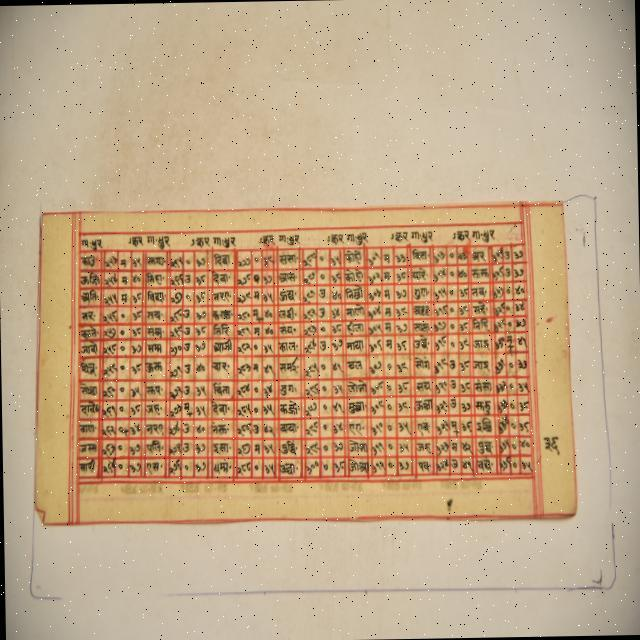text_paragraph: (34, 200, 575, 521)
